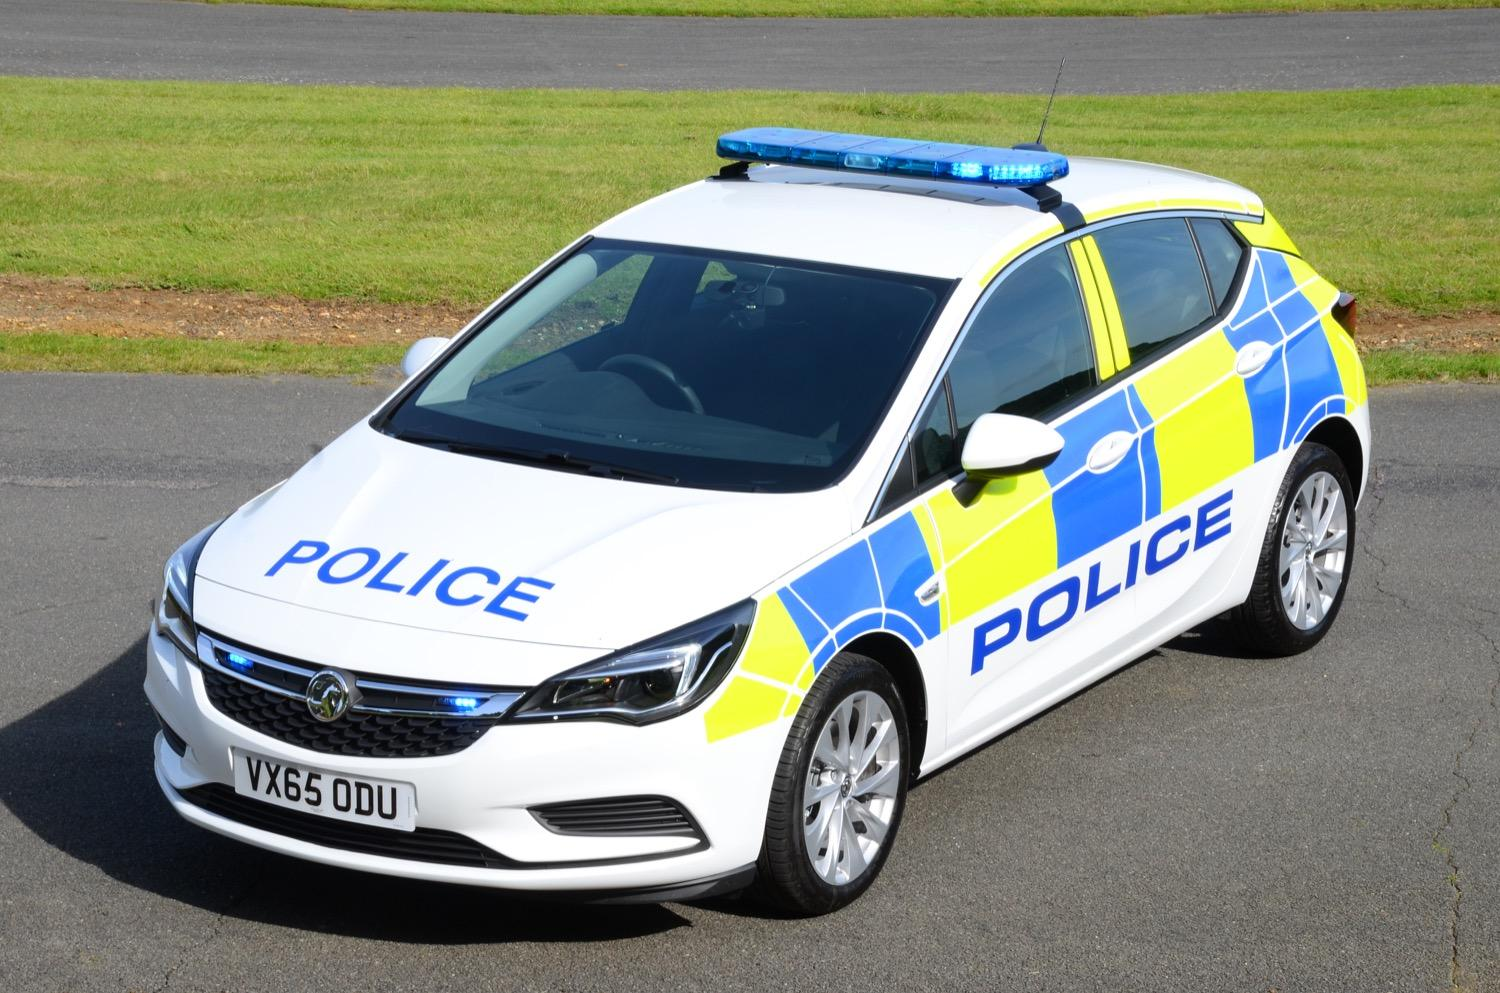Car: (114, 79, 1389, 901)
